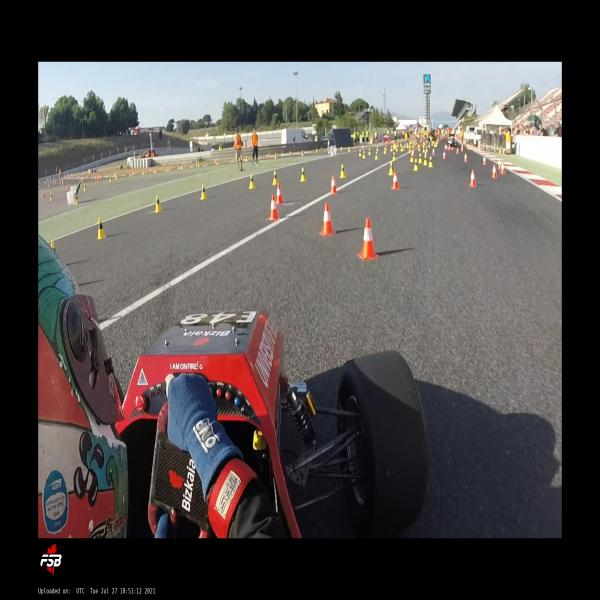orange_cone: (358, 218, 379, 260), (319, 203, 335, 236), (268, 194, 280, 221), (276, 183, 284, 204), (330, 175, 338, 195), (468, 169, 476, 188), (391, 170, 399, 189), (492, 166, 498, 179), (500, 162, 506, 174), (463, 152, 468, 163), (482, 156, 487, 166), (442, 151, 447, 160), (432, 148, 436, 156), (461, 144, 464, 152), (266, 153, 269, 159), (456, 148, 459, 154), (43, 191, 45, 198), (289, 151, 291, 157)
yellow_cone: (96, 216, 107, 240), (154, 195, 162, 213), (200, 183, 208, 200), (248, 174, 256, 189), (339, 163, 347, 178), (272, 170, 279, 186), (412, 158, 419, 172), (300, 167, 307, 181), (388, 162, 394, 175), (50, 240, 56, 252), (428, 156, 434, 167), (423, 155, 428, 165), (409, 153, 414, 162), (418, 153, 422, 164), (75, 194, 79, 205), (375, 150, 379, 160), (392, 151, 396, 161), (362, 150, 366, 159), (383, 146, 387, 154), (368, 148, 372, 156), (498, 146, 502, 154), (359, 149, 362, 157), (50, 193, 53, 201), (301, 150, 304, 156), (84, 184, 86, 192), (274, 153, 277, 158), (110, 176, 112, 182)
